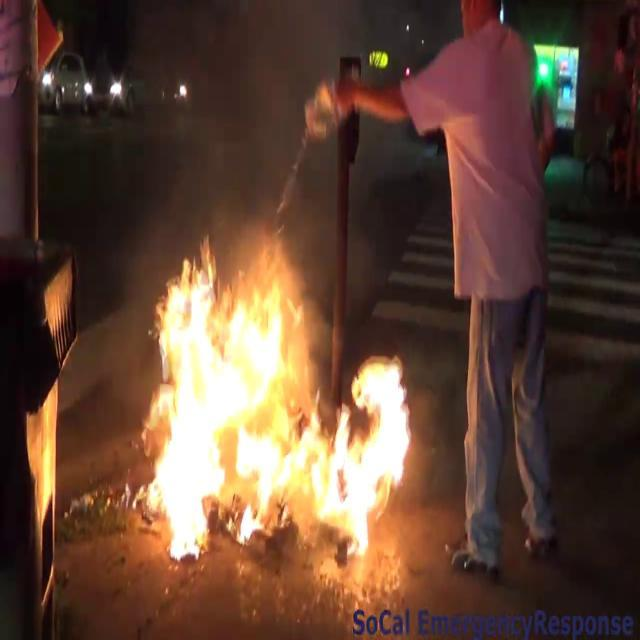Fire: (136, 243, 302, 555), (306, 339, 416, 566)
Smoke: (138, 2, 360, 236)
